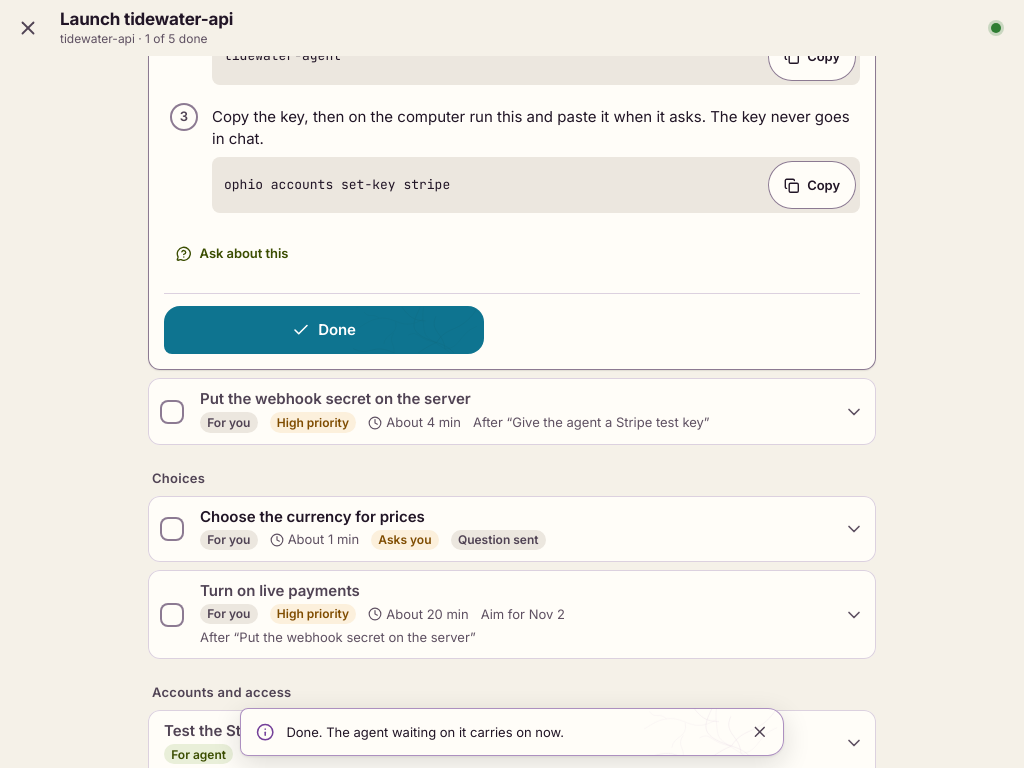
Test: offers only Save for a file Ophio can't show
(page scrolled)
Click the button that starts with "Put the webhook secret on the server": x=536, y=412 196,378 -> 876,445
Wait 900 ms
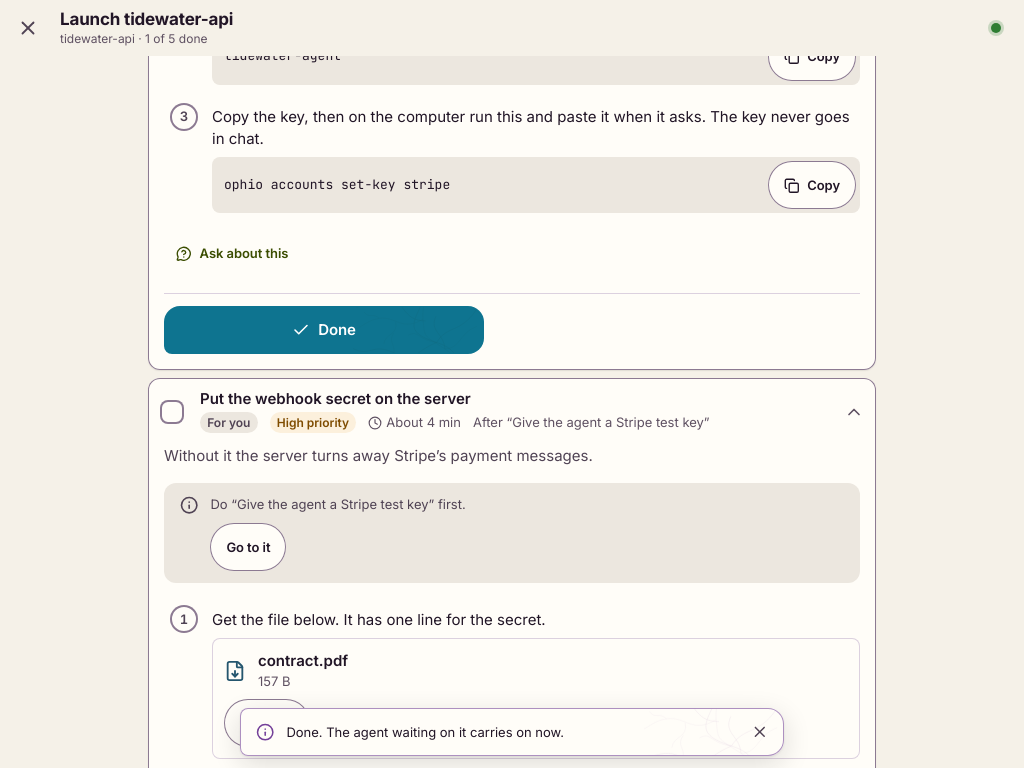
Expected: the button "Save" is shown, 224,699 -> 310,747
